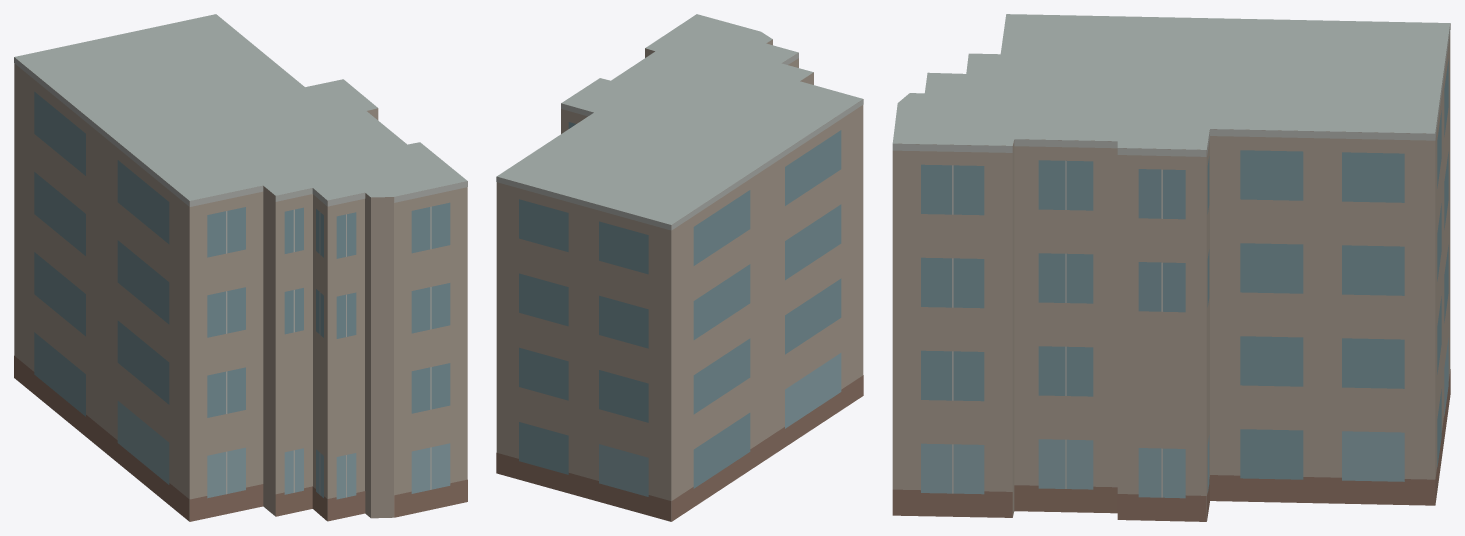
File: survey-upis-32697958.glb
3 views of the same model, side by side, from view 1: azimuth 30°, elevation 25°; view 2: azimuth 150°, elevation 25°; view 3: azimuth 270°, elevation 25° (orthographic). The views are drawn at different scales.
Parts seen in each view (by area): view 1: survey-upis-32697958.tmp; view 2: survey-upis-32697958.tmp; view 3: survey-upis-32697958.tmp.
Boxes of the visible parts, x1,y1,x2,y2 form: survey-upis-32697958.tmp: (14, 14, 467, 521); survey-upis-32697958.tmp: (496, 14, 863, 521); survey-upis-32697958.tmp: (892, 14, 1450, 521).
Size of the model in its own units: 10.12 by 12.9 by 17.54.
